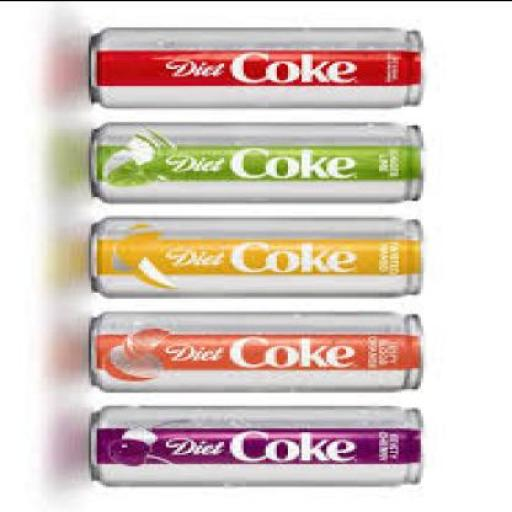metal: (88, 308, 426, 390), (92, 24, 429, 106), (91, 214, 426, 296), (91, 120, 423, 202), (94, 402, 424, 484)
